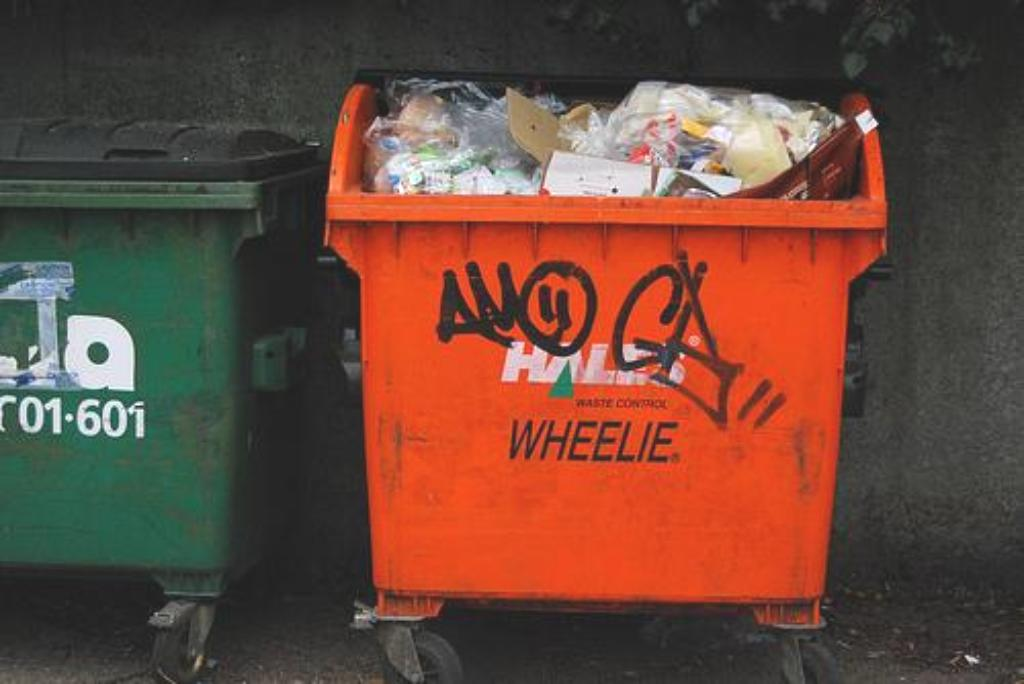dustbin: (312, 56, 883, 684)
